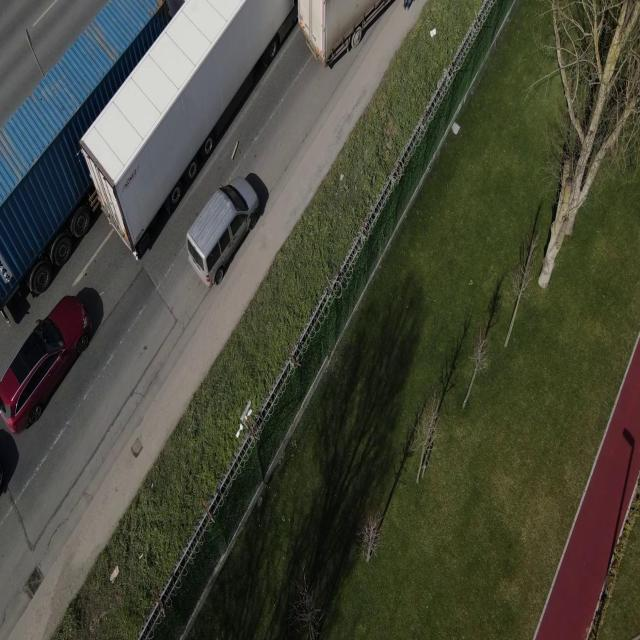p3rson: (402, 0, 412, 11)
